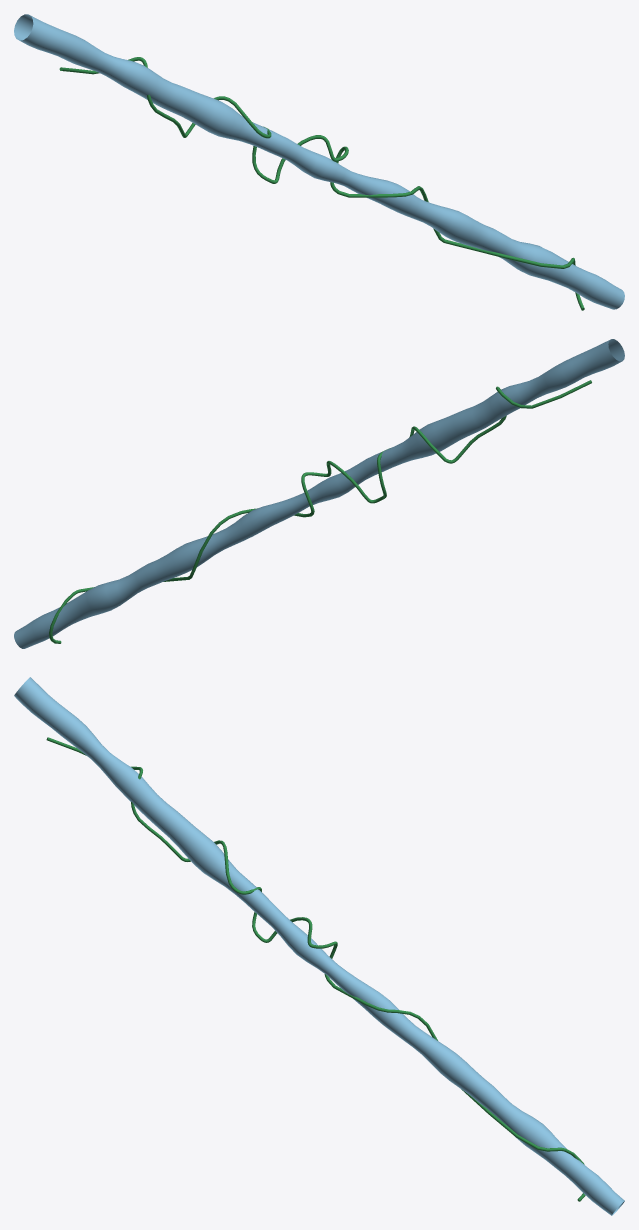
3 views of the same model, one above another, from view 1: azimuth 30°, elevation 25°; view 2: azimuth 150°, elevation 25°; view 3: azimuth 330°, elevation 25° (orthographic). The views are drawn at different scales.
Visible parts, largest first — view 1: node_id6 (×2); view 2: node_id6 (×2); view 3: node_id6 (×2).
Part boxes in pixels (x1,y1,x2,y2): node_id6 (×2): (14,14,624,310); node_id6 (×2): (14,339,624,648); node_id6 (×2): (14,677,624,1215).
Size of the model in its own units: 0.4294 by 0.3003 by 0.053.
